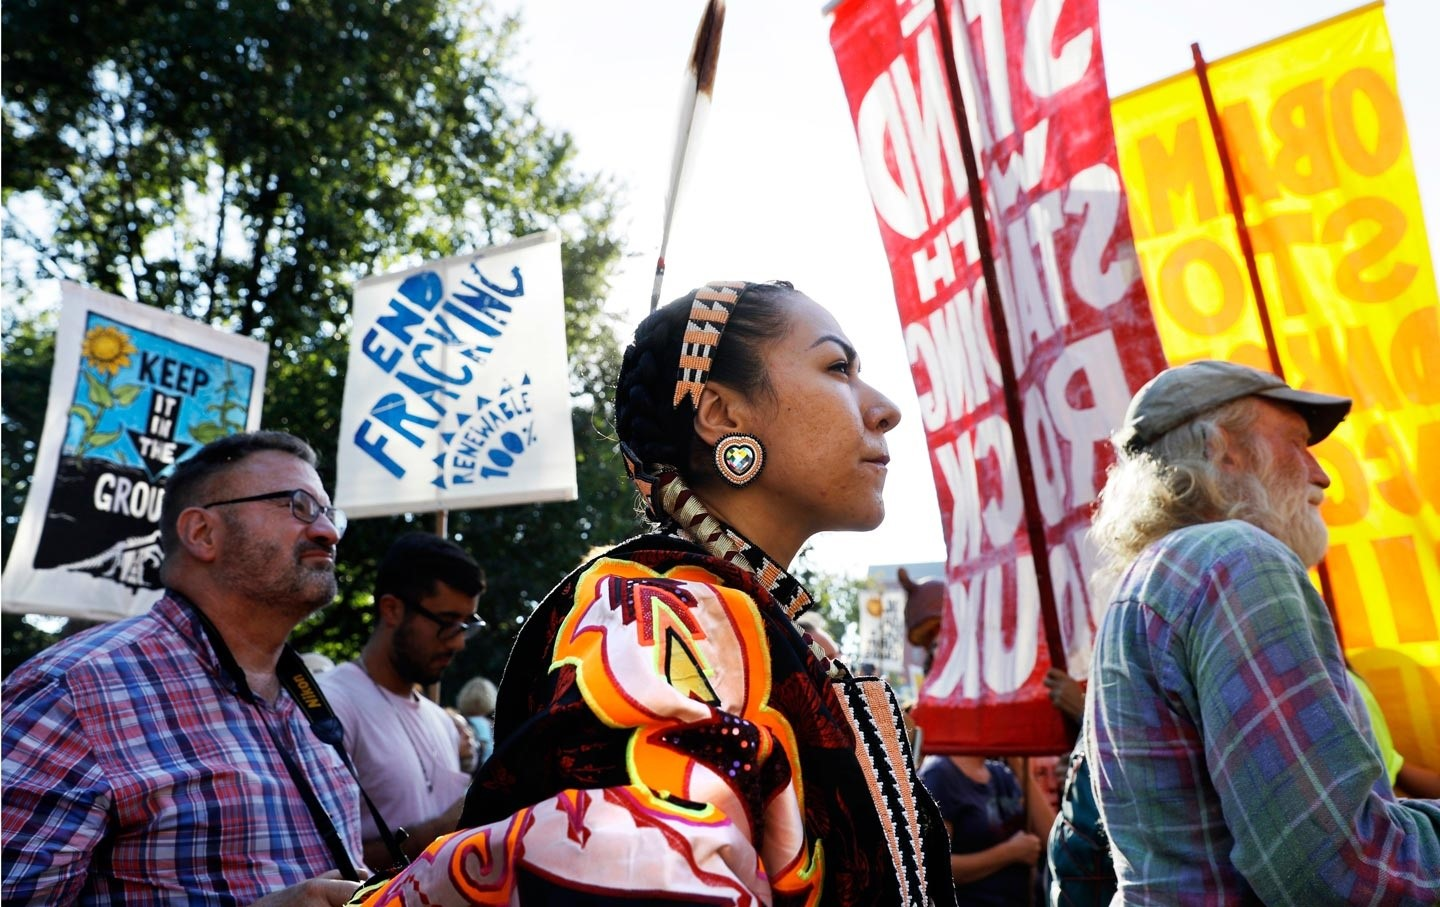face_no_mask: (618, 278, 898, 532), (181, 441, 347, 624)
